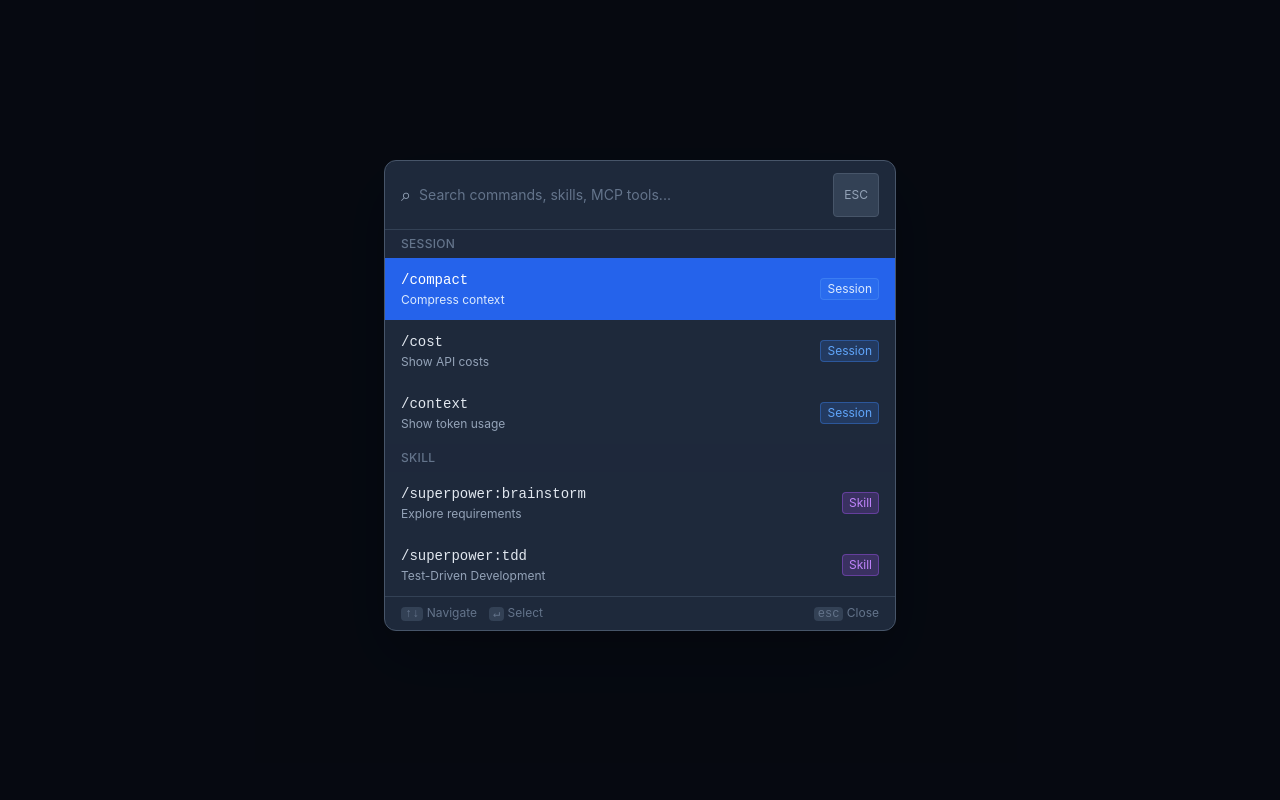
Test: CommandPalette › should show "No matching commands found" for empty results
In the field with placeholder "Search commands, skills, MCP tools...": point(622, 195) [419, 173, 825, 217], type "xyznonexistent"
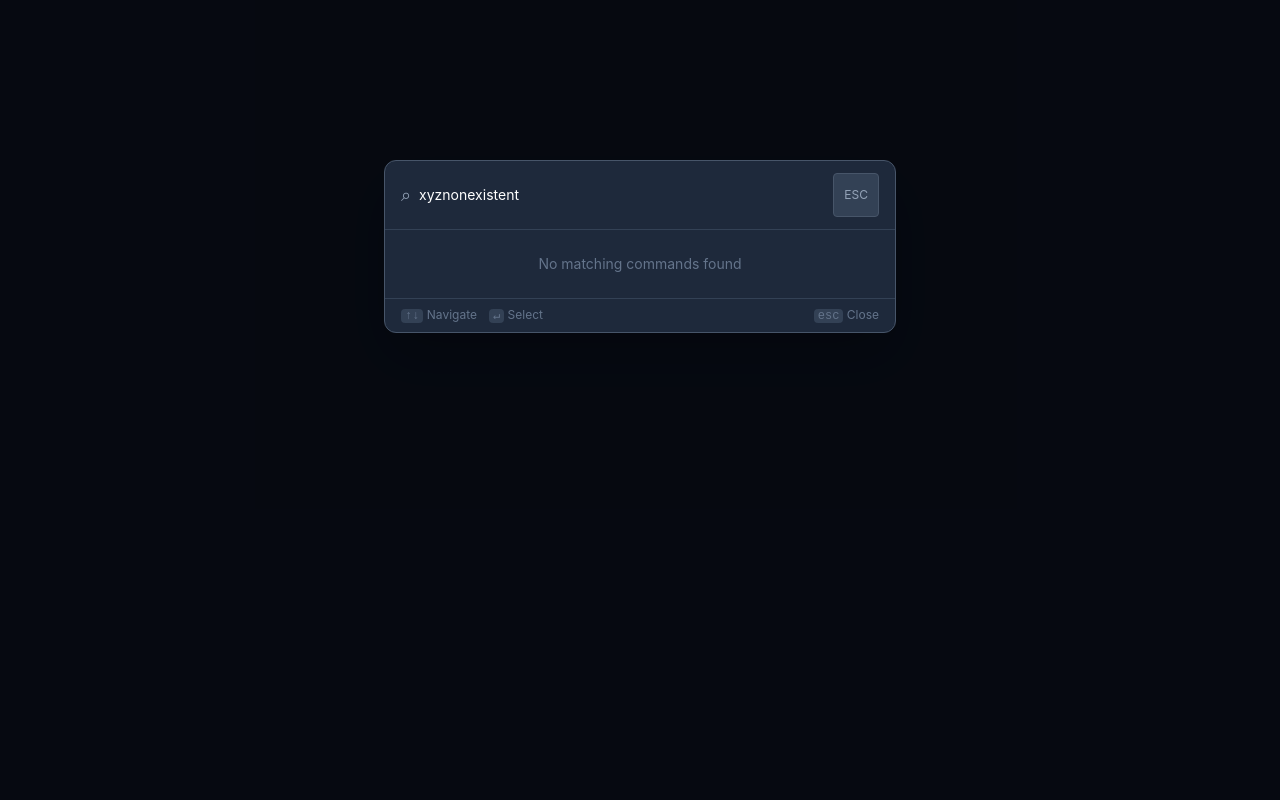
Now the text "No matching commands found" is shown, box [538, 255, 742, 272]
